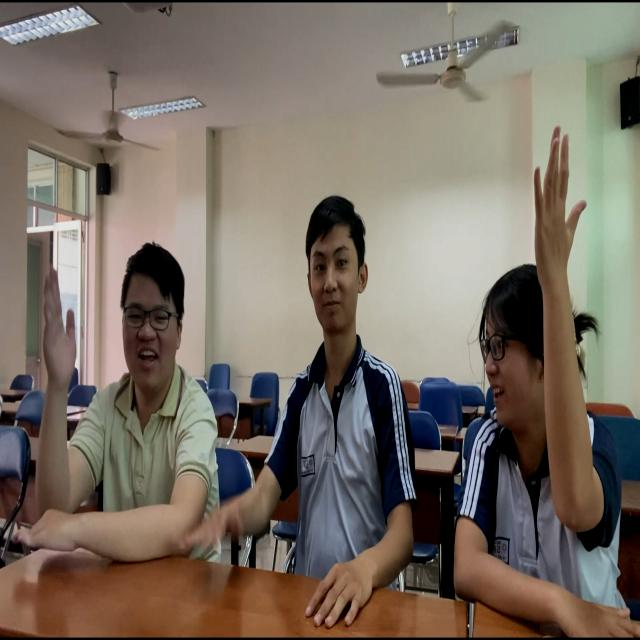raise_hand: (439, 127, 640, 640), (25, 234, 211, 582)
